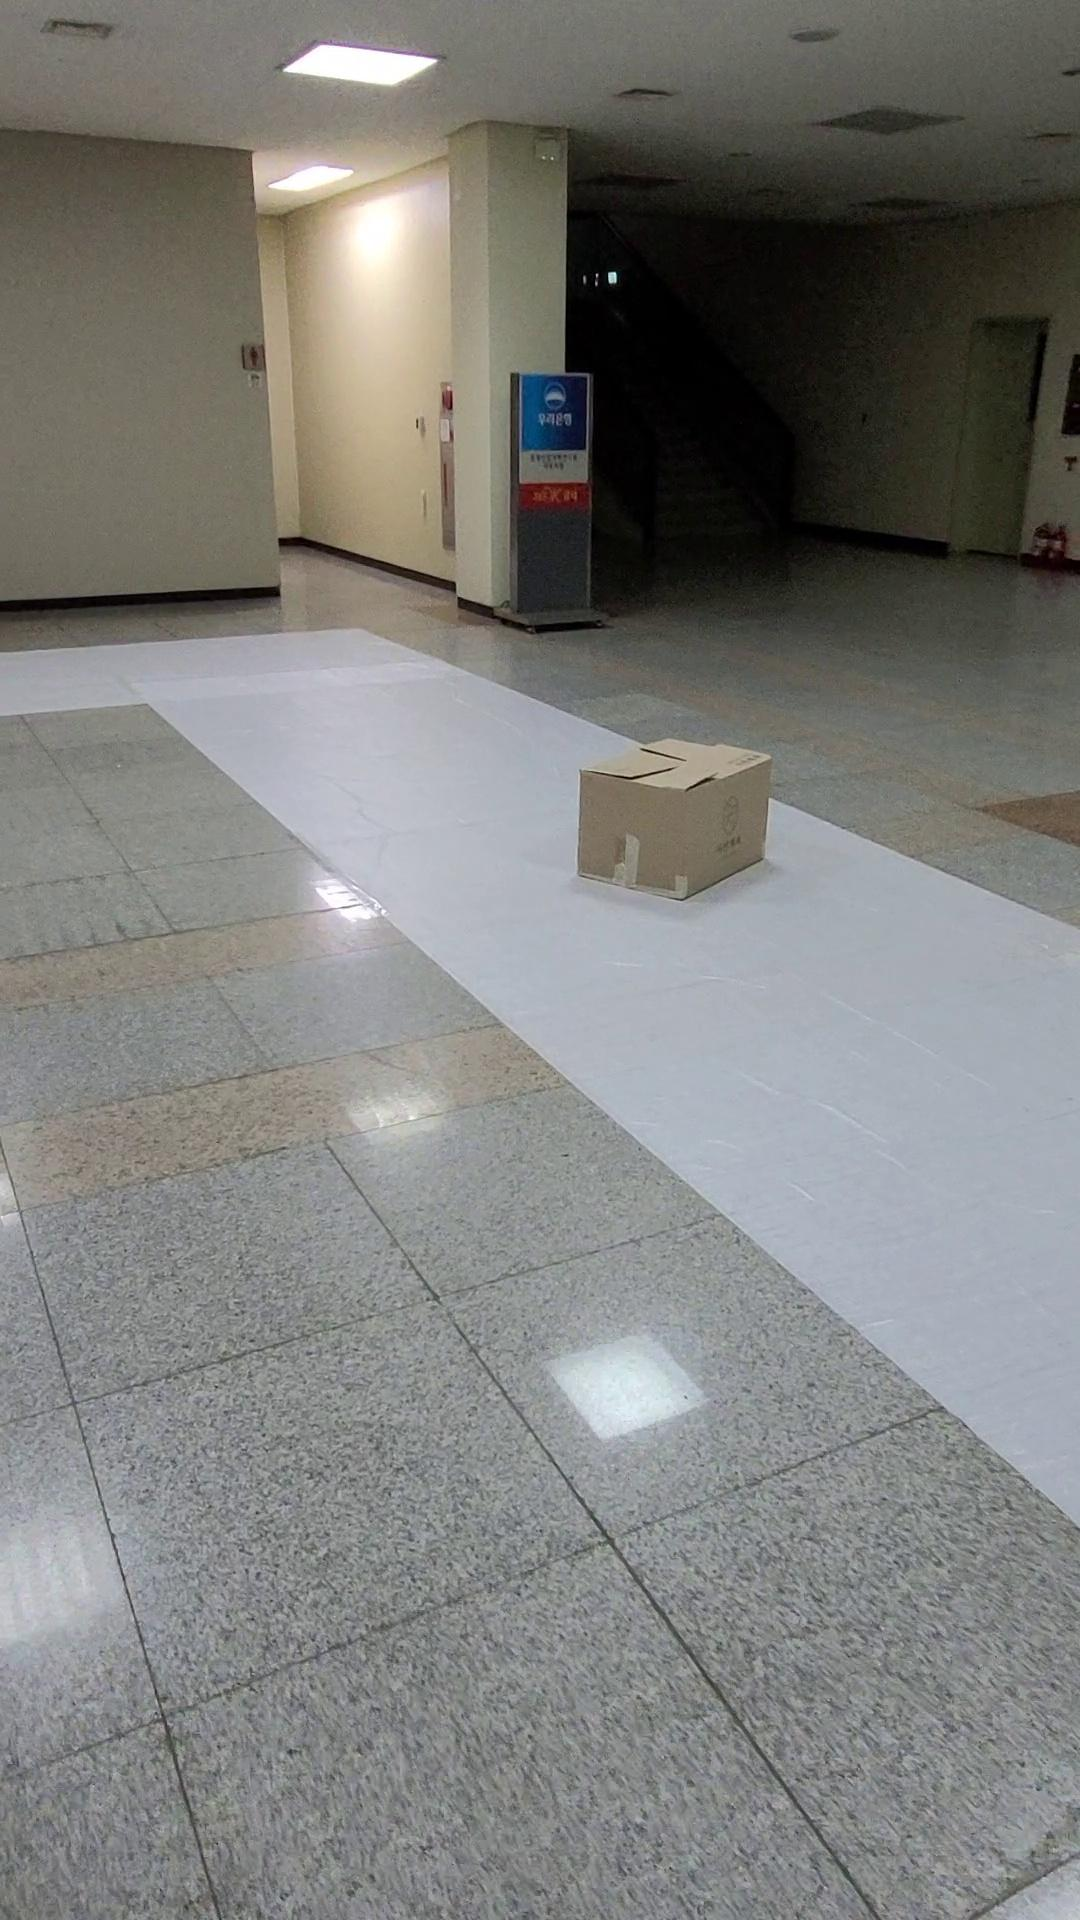Box: (568, 709, 794, 940)
